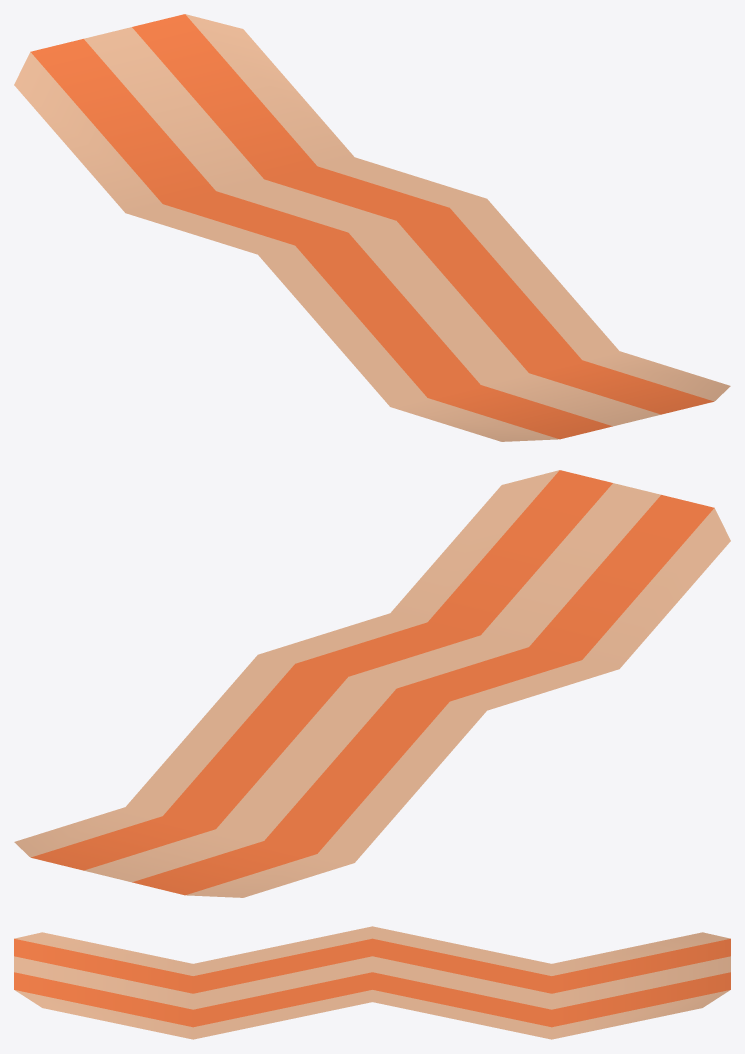
The model's file is bacon-raw.glb.
The picture shows the model from 3 angles, top to bottom: view 1: azimuth 30°, elevation 25°; view 2: azimuth 150°, elevation 25°; view 3: azimuth 270°, elevation 25°; orthographic projection. The views are drawn at different scales.
Parts seen in each view (by area): view 1: bacon-raw; view 2: bacon-raw; view 3: bacon-raw.
Part boxes in pixels (bbox=[...]): bacon-raw: bbox=[14, 14, 730, 441]; bacon-raw: bbox=[14, 470, 730, 897]; bacon-raw: bbox=[14, 926, 730, 1039].
Bounding box in the file's own units: 0.13 × 0.03 × 0.52.
Materials: 1 (1 with a texture image).
